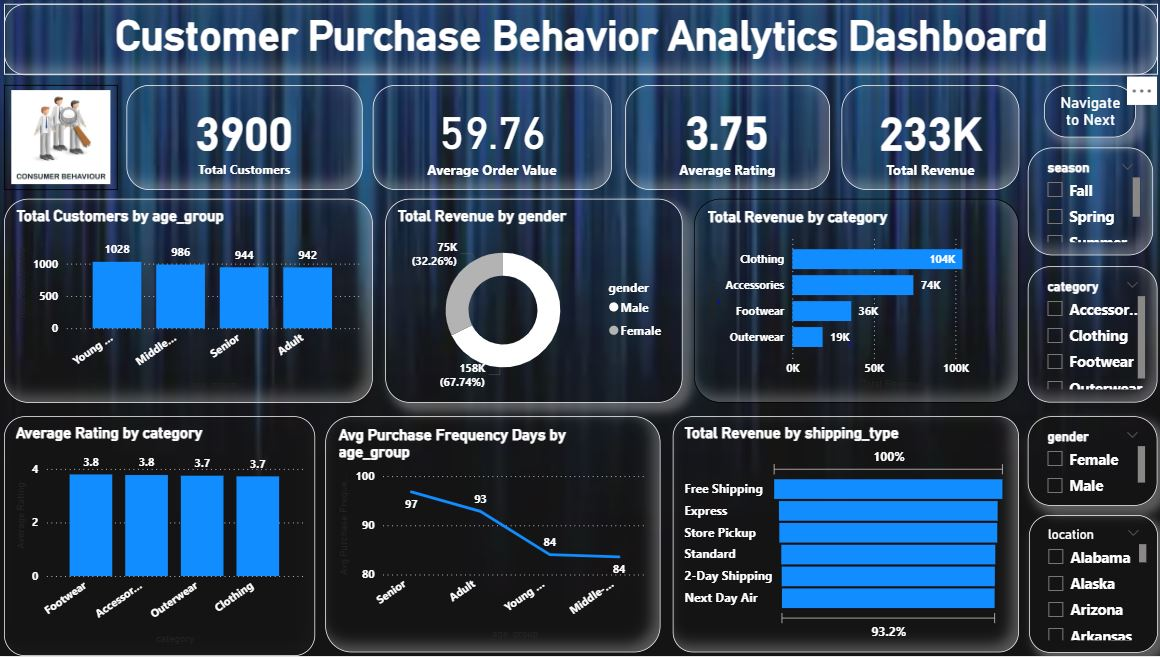

Layout of this report page (visuals, bound fields, positions):
{"tool":"powerbi","page":{"name":"Dashboard ","canvas":[1280,720],"ordinal":0},"visuals":[{"type":"card","fields":{"Values":["customer_shopping_cleaned.Total Customers"]},"box":[140,93.3,259.3,115.3],"z":0},{"type":"card","fields":{"Values":["customer_shopping_cleaned.Average Order Value"]},"box":[410.3,93.3,262.1,115.3],"z":1000},{"type":"card","fields":{"Values":["customer_shopping_cleaned.Average Rating"]},"box":[687.5,93.3,225,115.3],"z":2000},{"type":"card","fields":{"Values":["customer_shopping_cleaned.Total Revenue"]},"box":[924.9,93.3,194.9,115.3],"z":3000},{"type":"clusteredColumnChart","fields":{"Category":["customer_shopping_cleaned.age_group"],"Y":["customer_shopping_cleaned.Total Customers"]},"box":[5.5,217.5,404.7,224.4],"z":4000},{"type":"donutChart","fields":{"Y":["customer_shopping_cleaned.Total Revenue"],"Category":["customer_shopping_cleaned.gender"]},"box":[424,217.5,326.3,224.4],"z":5000},{"type":"barChart","fields":{"Y":["customer_shopping_cleaned.Total Revenue"],"Category":["customer_shopping_cleaned.category"]},"box":[763,218.2,356.8,223.7],"z":6000},{"type":"columnChart","fields":{"Category":["customer_shopping_cleaned.category"],"Y":["customer_shopping_cleaned.Average Rating"]},"box":[5.5,456.9,341.7,263.5],"z":7000},{"type":"lineChart","fields":{"Category":["customer_shopping_cleaned.age_group"],"Y":["customer_shopping_cleaned.Avg Purchase Frequency Days"]},"box":[358.1,456.9,367.8,259.3],"z":8000},{"type":"funnel","fields":{"Category":["customer_shopping_cleaned.shipping_type"],"Y":["customer_shopping_cleaned.Total Revenue"]},"box":[739.6,456.9,380.1,259.3],"z":9000},{"type":"slicer","fields":{"Values":["customer_shopping_cleaned.season"]},"box":[1129.3,161.9,137.2,118],"z":10000},{"type":"slicer","fields":{"Values":["customer_shopping_cleaned.category"]},"box":[1129.3,292.3,142.7,149.6],"z":11000},{"type":"slicer","fields":{"Values":["customer_shopping_cleaned.gender"]},"box":[1129.3,456.9,142.7,98.8],"z":12000},{"type":"slicer","fields":{"Values":["customer_shopping_cleaned.location"]},"box":[1130.7,565.4,141.3,150.9],"z":13000},{"type":"textbox","title":"Customer Purchase Behavior Analytics Dashboard","box":[5.5,4.1,1266.6,78.2],"z":14000},{"type":"image","box":[5.5,93.3,124.9,115.3],"z":15000},{"type":"actionButton","title":"Navigate to Next","box":[1146.7,93.6,100.5,57.8],"z":16000}]}

Visuals, with their boxes in screenshot pixels (x1, y1, x2, y2), scaled from the page's 1280x720 canvas onto the 1160x657 screenshot:
card - customer_shopping_cleaned.Total Customers: [x1=127, y1=85, x2=362, y2=190]
card - customer_shopping_cleaned.Average Order Value: [x1=372, y1=85, x2=609, y2=190]
card - customer_shopping_cleaned.Average Rating: [x1=623, y1=85, x2=827, y2=190]
card - customer_shopping_cleaned.Total Revenue: [x1=838, y1=85, x2=1015, y2=190]
clusteredColumnChart - customer_shopping_cleaned.age_group x customer_shopping_cleaned.Total Customers: [x1=5, y1=198, x2=372, y2=403]
donutChart - customer_shopping_cleaned.Total Revenue x customer_shopping_cleaned.gender: [x1=384, y1=198, x2=680, y2=403]
barChart - customer_shopping_cleaned.Total Revenue x customer_shopping_cleaned.category: [x1=691, y1=199, x2=1015, y2=403]
columnChart - customer_shopping_cleaned.category x customer_shopping_cleaned.Average Rating: [x1=5, y1=417, x2=315, y2=656]
lineChart - customer_shopping_cleaned.age_group x customer_shopping_cleaned.Avg Purchase Frequency Days: [x1=325, y1=417, x2=658, y2=654]
funnel - customer_shopping_cleaned.shipping_type x customer_shopping_cleaned.Total Revenue: [x1=670, y1=417, x2=1015, y2=654]
slicer - customer_shopping_cleaned.season: [x1=1023, y1=148, x2=1148, y2=255]
slicer - customer_shopping_cleaned.category: [x1=1023, y1=267, x2=1153, y2=403]
slicer - customer_shopping_cleaned.gender: [x1=1023, y1=417, x2=1153, y2=507]
slicer - customer_shopping_cleaned.location: [x1=1025, y1=516, x2=1153, y2=654]
"Customer Purchase Behavior Analytics Dashboard" textbox: [x1=5, y1=4, x2=1153, y2=75]
image: [x1=5, y1=85, x2=118, y2=190]
"Navigate to Next" actionButton: [x1=1039, y1=85, x2=1130, y2=138]
